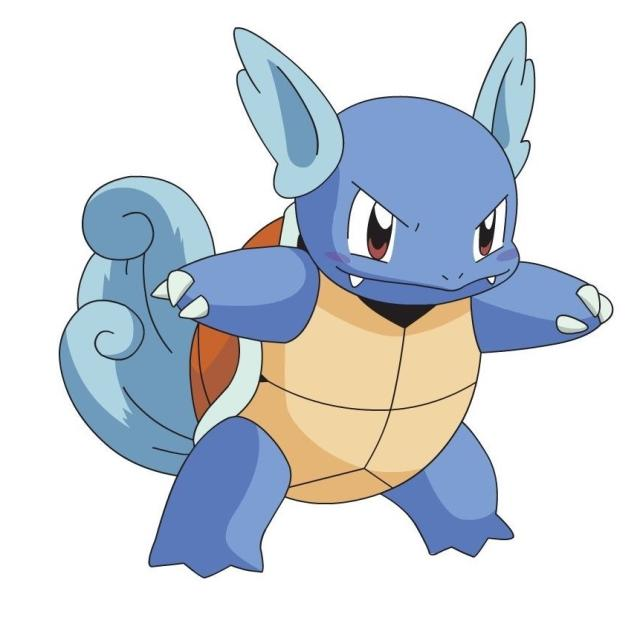Wartortle: (132, 23, 552, 568)
